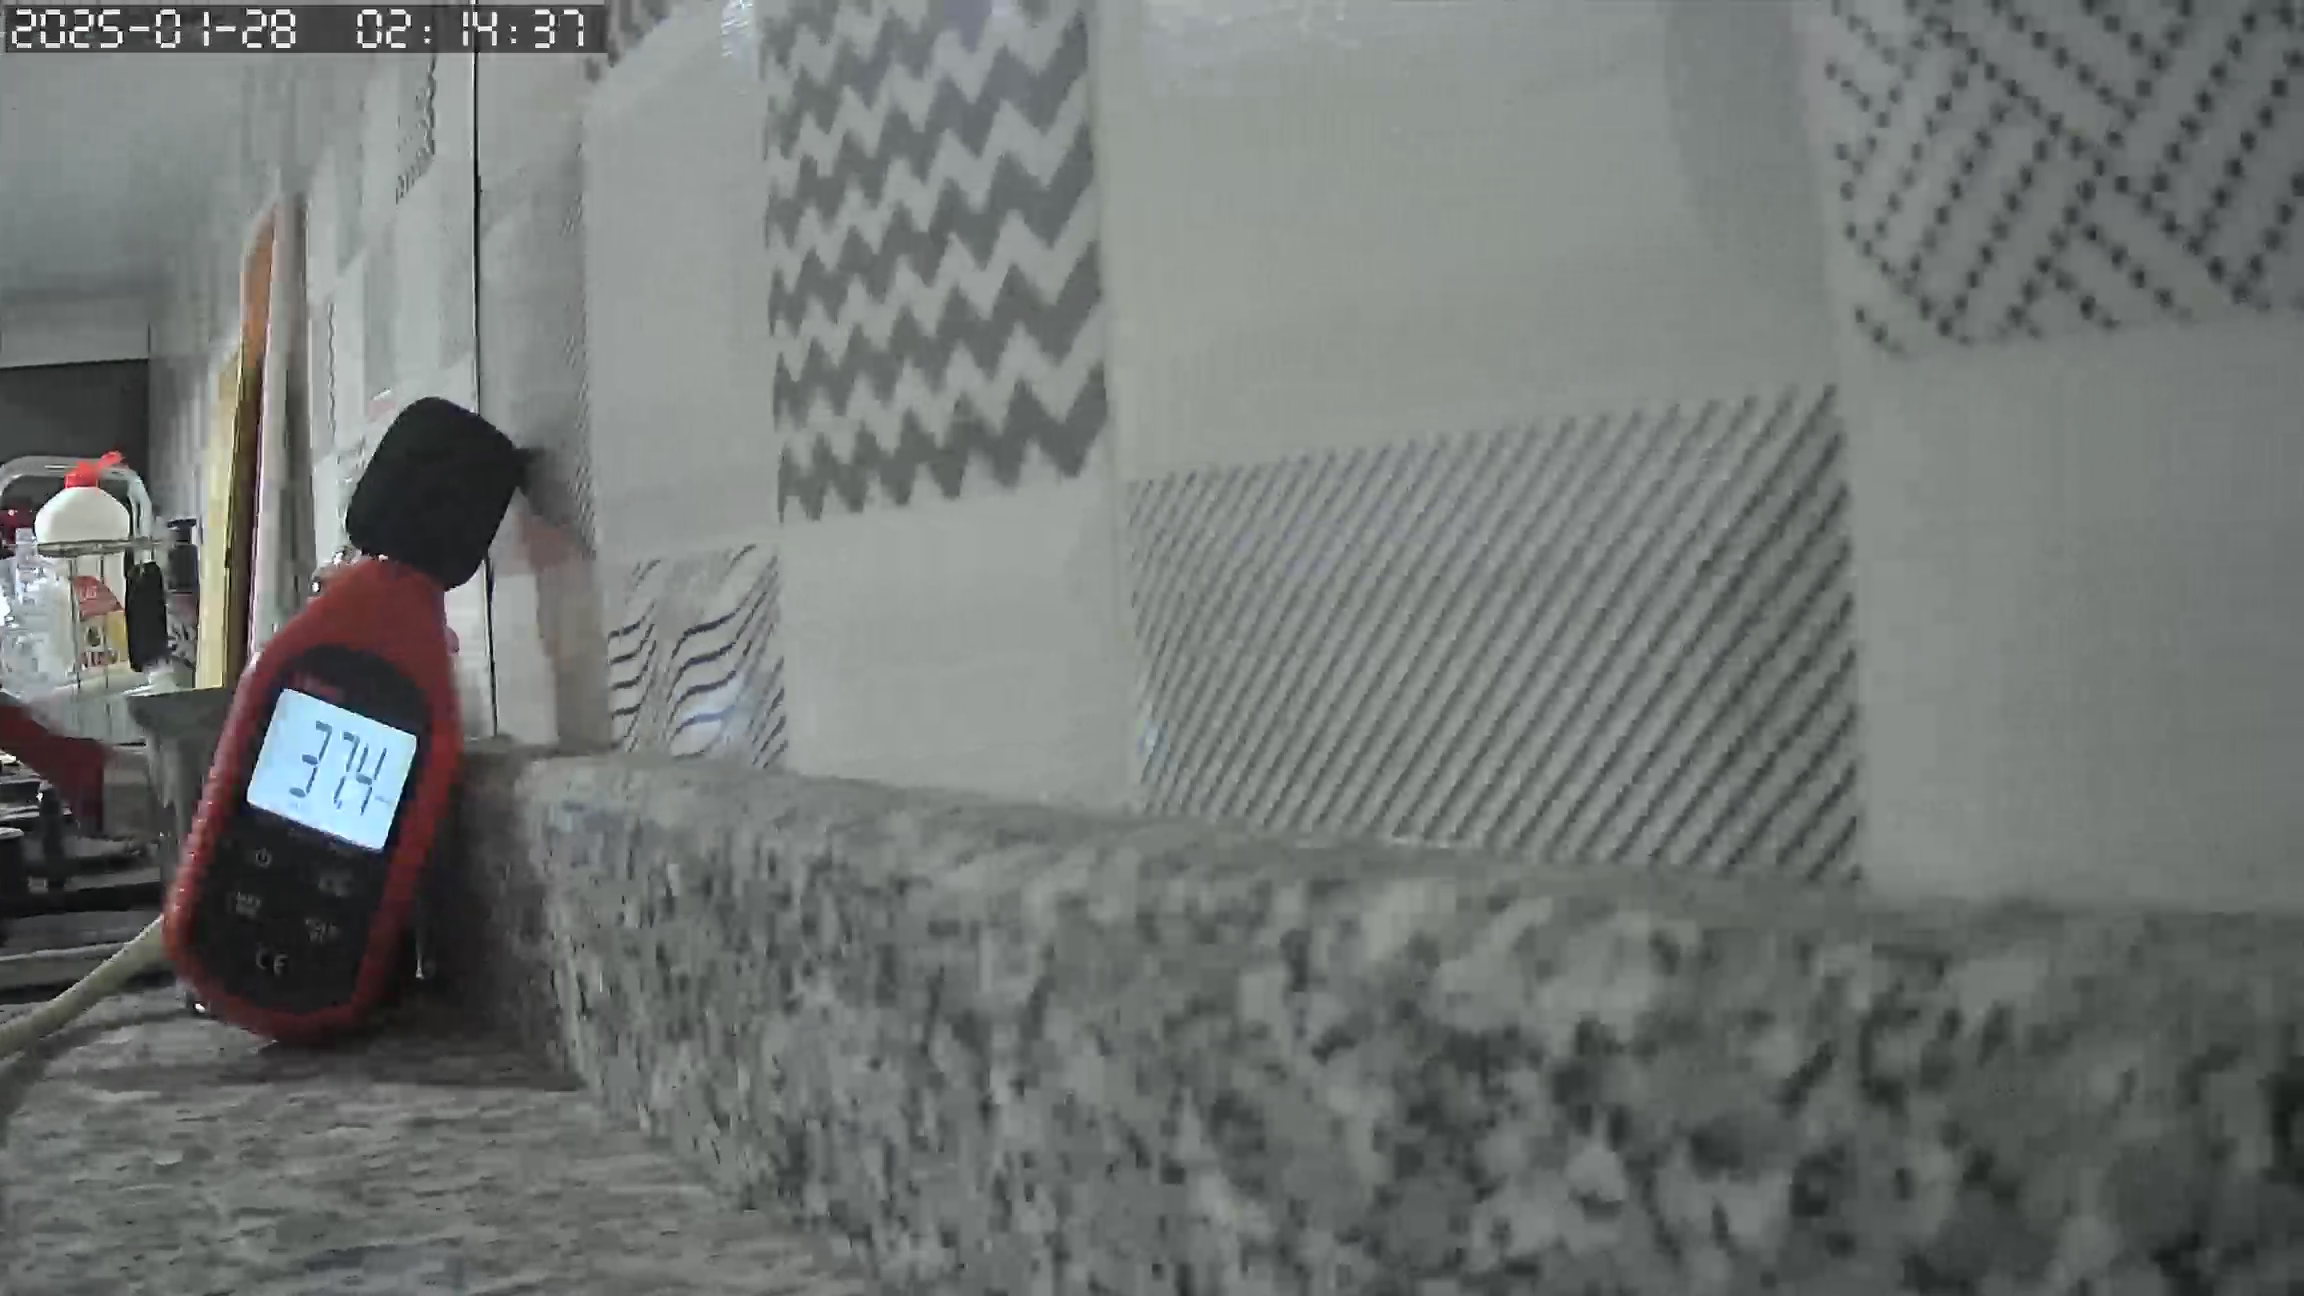screen: (237, 688, 421, 851)
